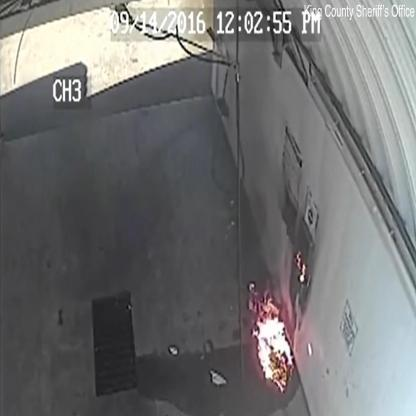fire: (247, 283, 293, 394)
